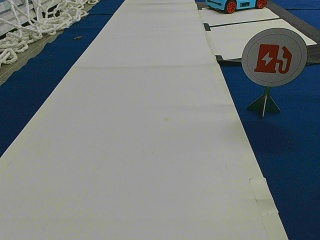battery: (242, 28, 305, 86)
car: (204, 0, 266, 12)
